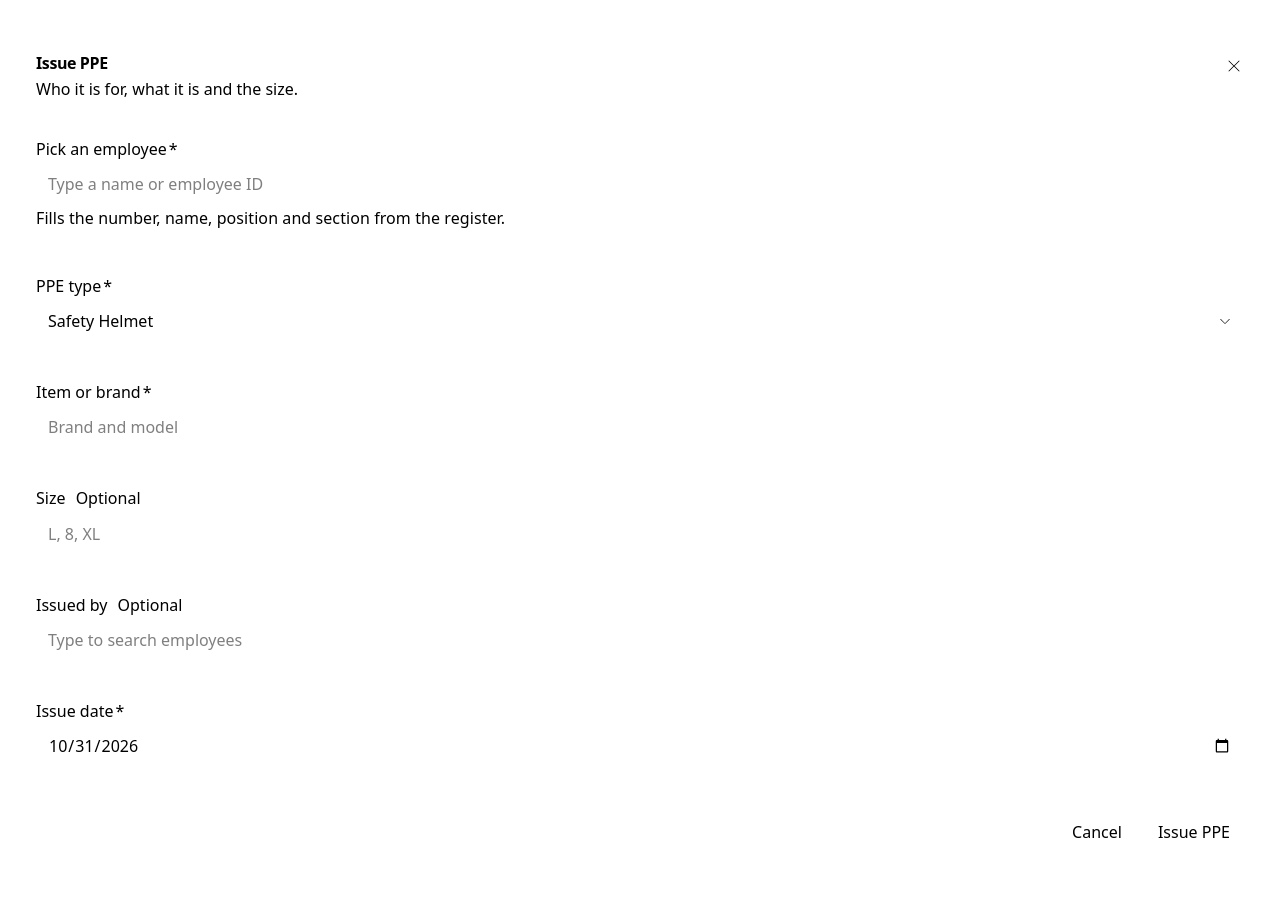
Test: PPEIssueForm person-pick › offers no typed person inputs and names the picker on an empty submit
This screenshot has width=1280, height=900.
Expected: the dropdown labelled "Pick an employee" is shown, [36,166,1244,202]
Click the button "Issue PPE": click(1194, 832) [1144,814,1244,850]
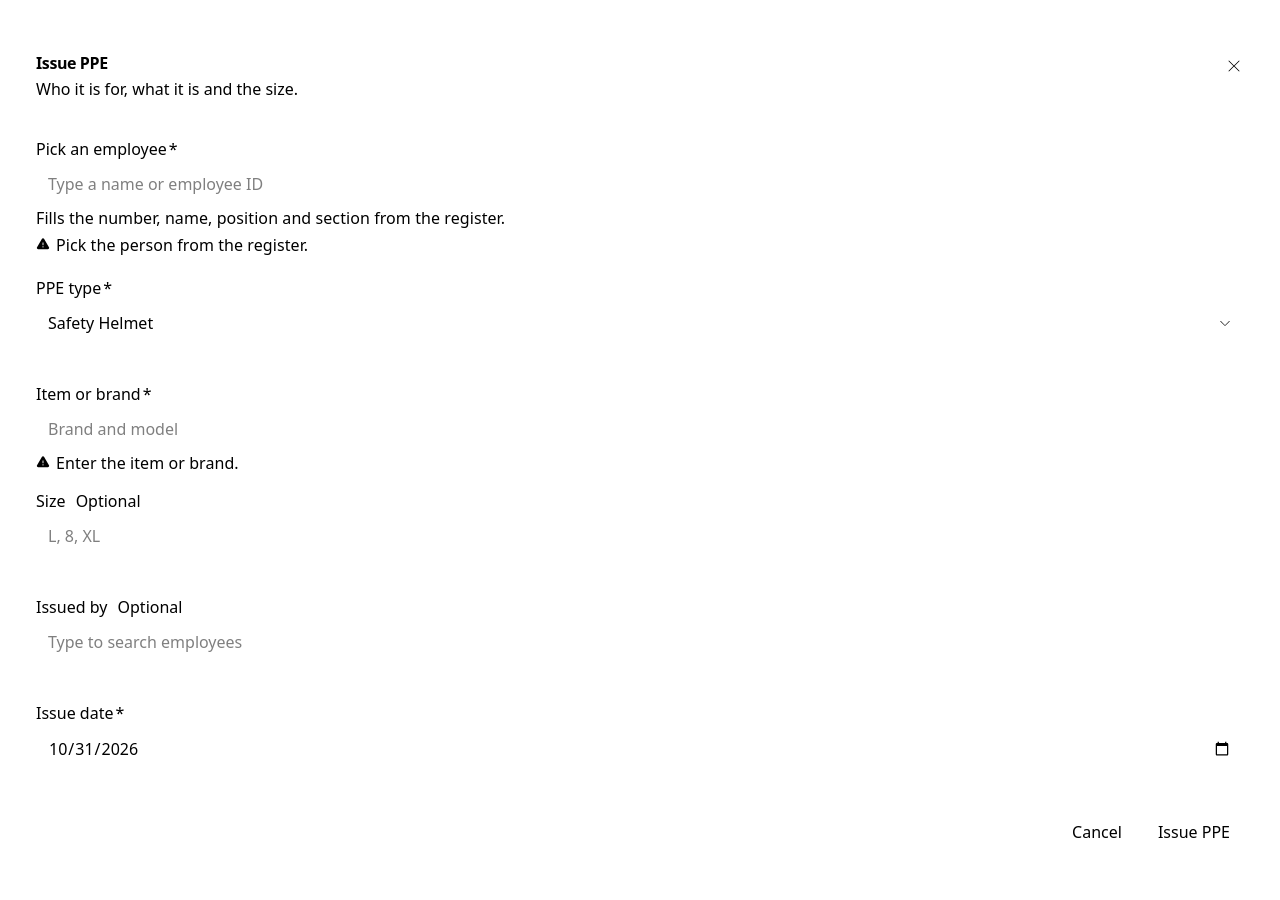
Expected: the text "Pick the person from the register." is shown, [56,235,308,257]
